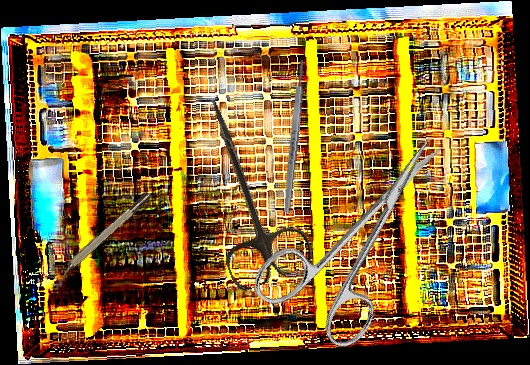Fixation Ring: (44, 189, 158, 291)
Iris Scissors: (246, 106, 487, 363), (169, 87, 318, 294)
Scalpel Handle: (282, 59, 307, 214)
